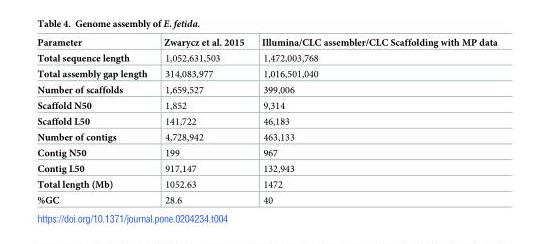table: (36, 37, 496, 205)
table column: (252, 37, 496, 205), (36, 37, 154, 205), (154, 37, 252, 205)
table column header: (36, 37, 496, 50)
table row: (36, 65, 496, 81), (36, 81, 496, 97), (36, 97, 496, 113), (36, 113, 496, 129), (36, 144, 496, 160), (36, 160, 496, 176), (36, 176, 496, 192), (36, 50, 496, 65), (36, 129, 496, 144), (36, 37, 496, 50), (36, 192, 496, 205)
